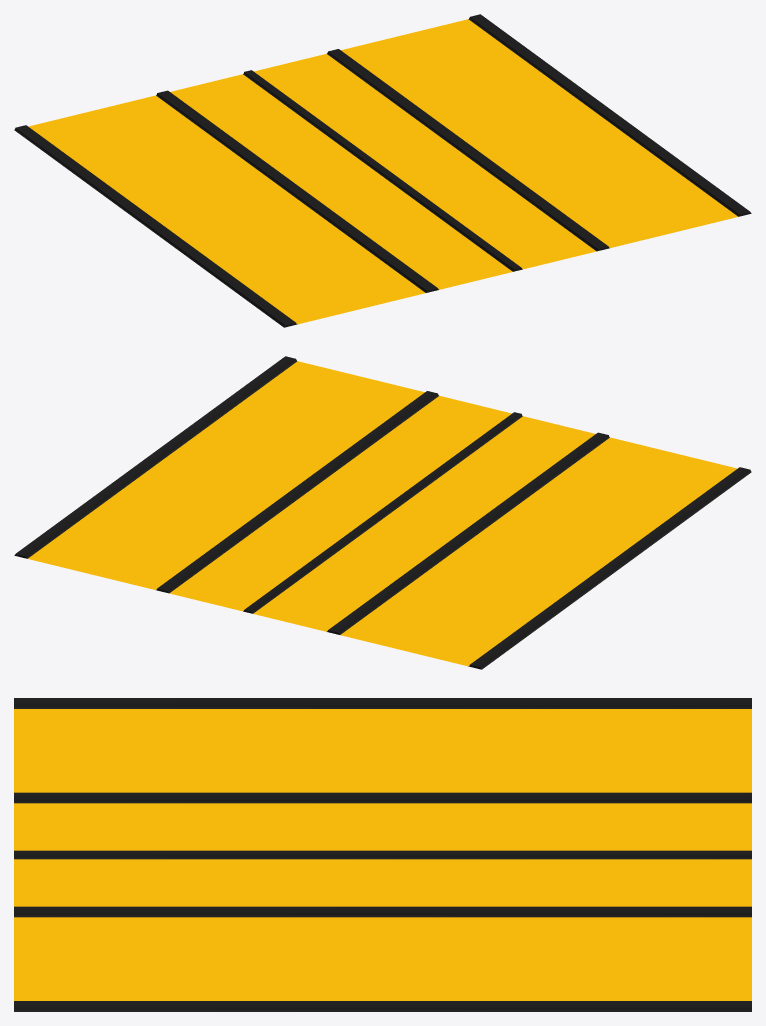
The model's file is Platform_damage.glb.
3 views of the same model, one above another, from view 1: azimuth 30°, elevation 25°; view 2: azimuth 150°, elevation 25°; view 3: azimuth 270°, elevation 25° (orthographic). The views are drawn at different scales.
Parts seen in each view (by area): view 1: Extrude.002; view 2: Extrude.002; view 3: Extrude.002.
Part boxes in pixels (bbox=[...]): Extrude.002: bbox=[14, 14, 751, 327]; Extrude.002: bbox=[14, 356, 751, 669]; Extrude.002: bbox=[14, 698, 751, 1011].
Bounding box in the file's own units: 4 × 0.0161 × 4.
